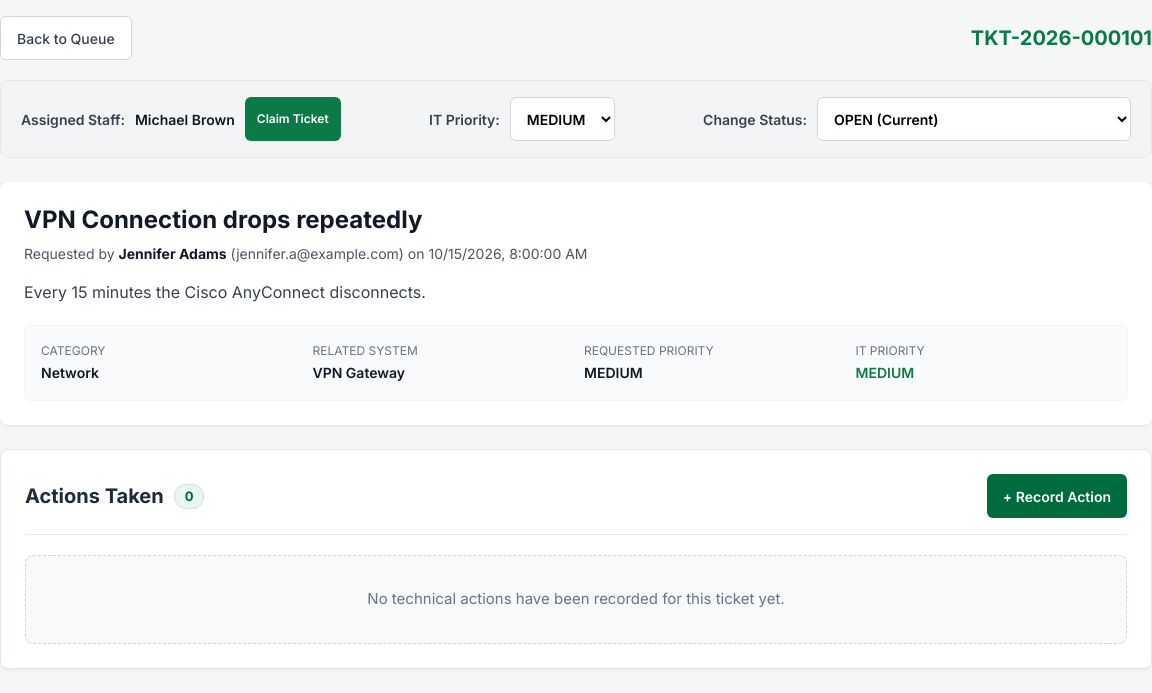
it: Ticket Status Workflow & Resolution Gate UI Tests (UI-FLOW-01 to UI-FLOW-03) › UI-FLOW-03: Submits target status with ticket.version and displays error alert on 409 conflict
Expected: the heading "VPN Connection drops repeatedly" is shown, left=24, top=205, right=422, bottom=234
Select "Transition to IN PROGRESS" in the dropdown labelled "Change Status:" at [974, 119], box left=817, top=97, right=1131, bottom=141
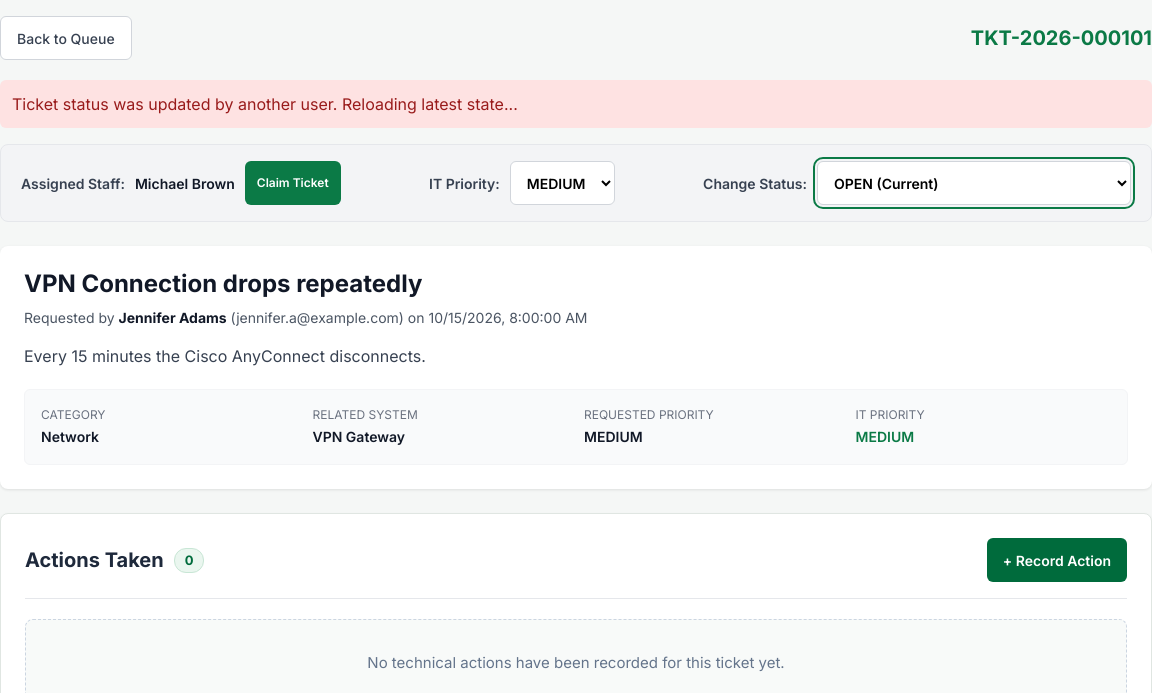
Result: the text "Ticket status was updated by another user. Reloading latest state..." is shown at left=0, top=80, right=1151, bottom=128
